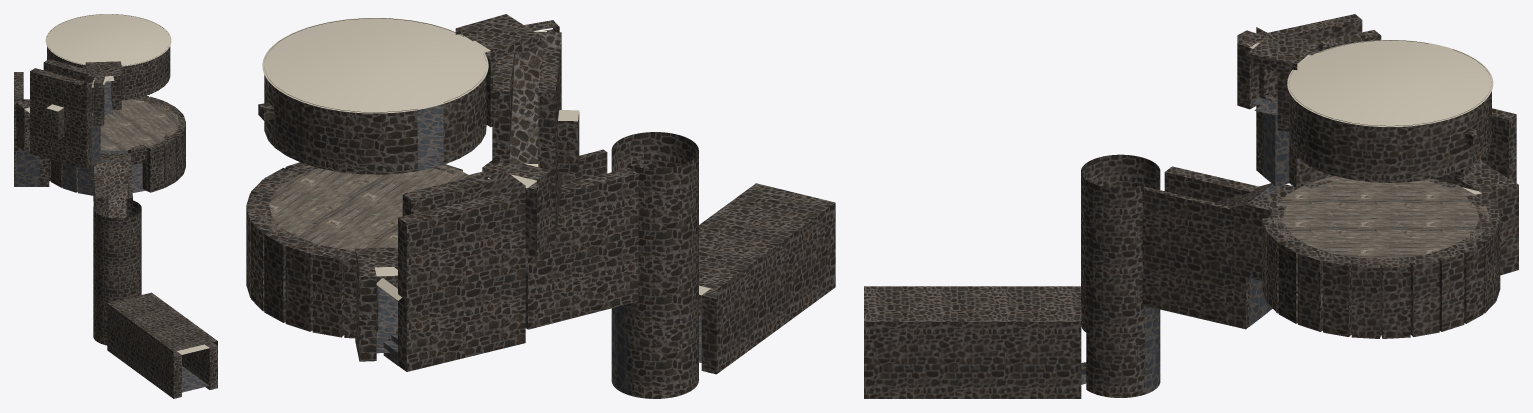
The model's file is kirkkotorni-portaat.glb.
3 renders of one model, left to right at view 1: azimuth 30°, elevation 25°; view 2: azimuth 150°, elevation 25°; view 3: azimuth 270°, elevation 25°, orthographic. The views are drawn at different scales.
Parts seen in each view (by area): view 1: kirkkotorni_architecture; view 2: kirkkotorni_architecture; view 3: kirkkotorni_architecture.
Part boxes in pixels (x1,y1,x2,y2): kirkkotorni_architecture: (14, 14, 217, 398); kirkkotorni_architecture: (246, 14, 835, 398); kirkkotorni_architecture: (864, 14, 1518, 398).
Size of the model in its own units: 11.6 by 15.29 by 25.01.
Materials: 5 (3 with a texture image).
